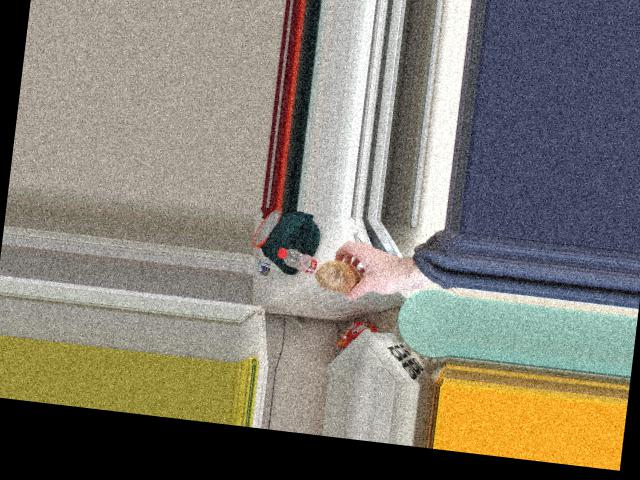sweet_potato: (315, 251, 371, 299)
